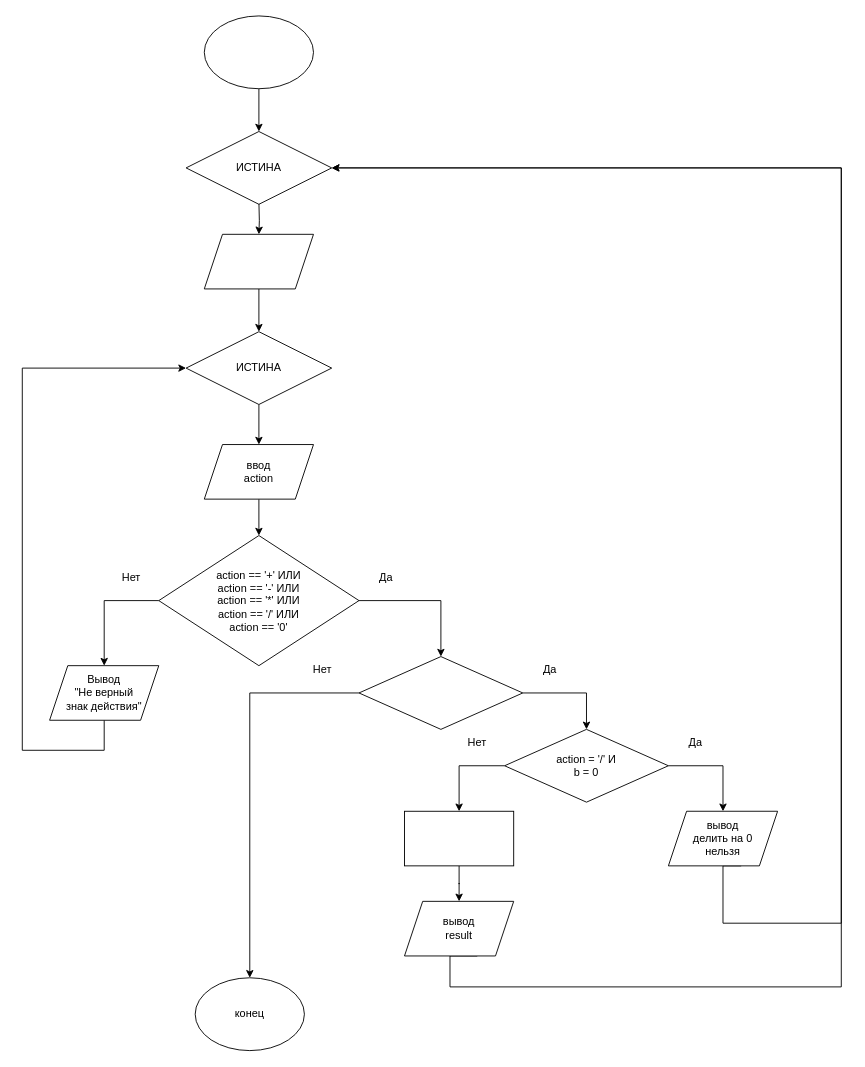
This 865x1067 diagram has some shape labels left out. The shapes that lost their labels are listed below. From the top down, each one's centre as x and y in pixels, then its label:
the point at 258,52: начало
the point at 258,261: ввод a, b
the point at 440,692: action != '0'
the point at 459,838: result = a action b
